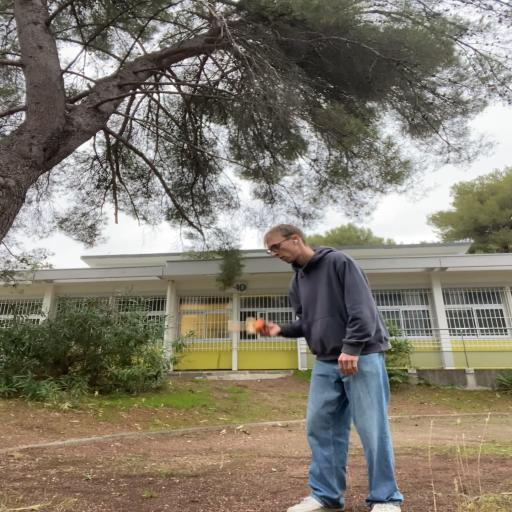kendama_ball: (254, 319, 265, 332)
